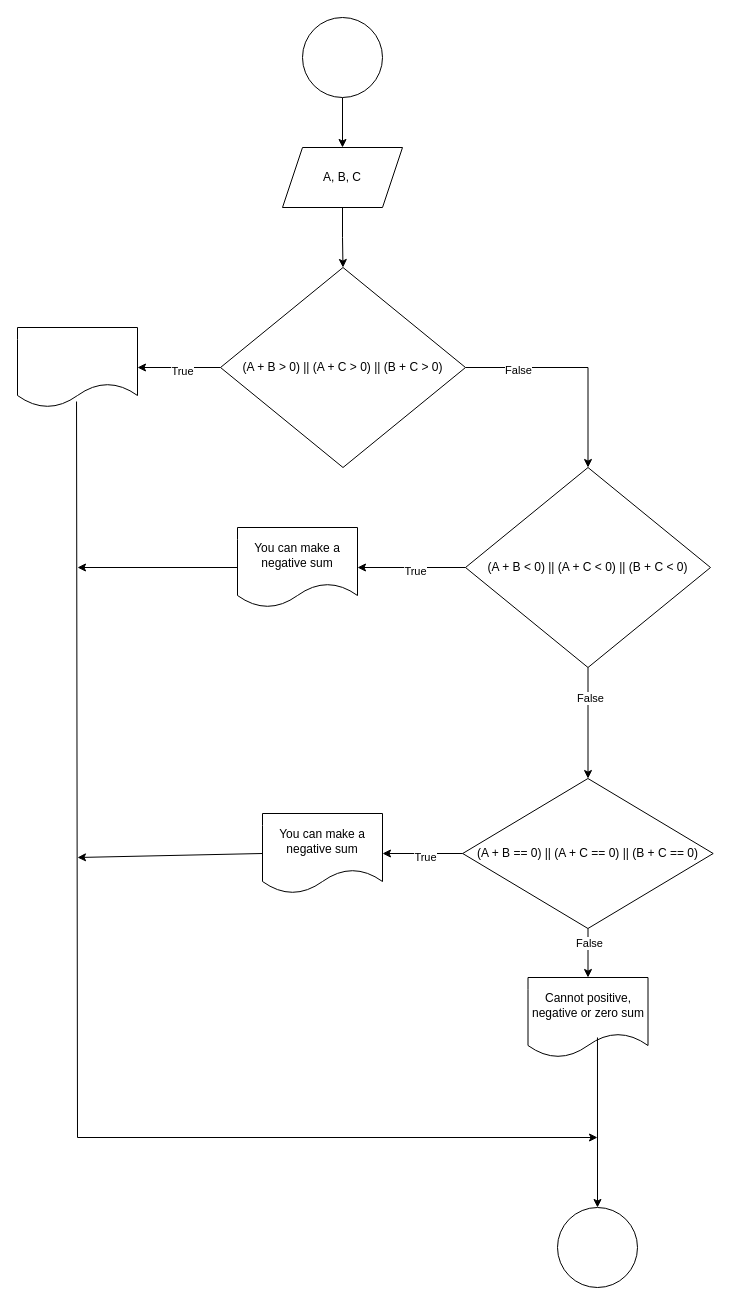
The diagram is 731 pixels wide and 1305 high, and some of its shapes have lost their labels. Each missing label, with the centre of its shape:
"END" belongs at point 597,1247.
"START" belongs at point 342,57.
"You can make a positive sum" belongs at point 77,367.
